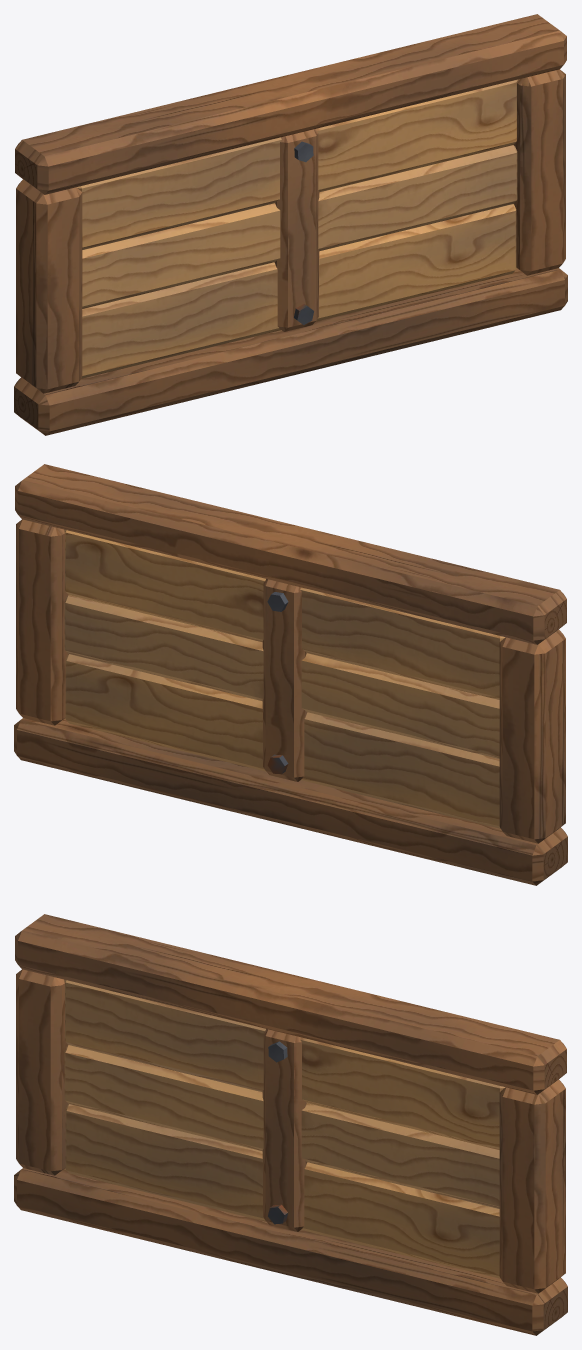
Rendered from yarim_duvar.glb.
3 views of the same model, one above another, from view 1: azimuth 30°, elevation 25°; view 2: azimuth 150°, elevation 25°; view 3: azimuth 330°, elevation 25° (orthographic).
Parts seen in each view (by area): view 1: yarim_duvar; view 2: yarim_duvar; view 3: yarim_duvar.
Part boxes in pixels (bbox=[...]): yarim_duvar: bbox=[14, 14, 567, 435]; yarim_duvar: bbox=[14, 464, 567, 885]; yarim_duvar: bbox=[14, 914, 567, 1335].
Size of the model in its own units: 3 by 1.51 by 0.32.
1 material, 1 textured.
